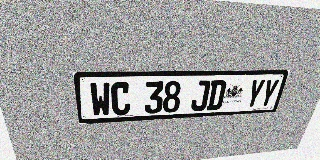3: (144, 81, 164, 114)
8: (162, 81, 182, 113)
C: (111, 82, 130, 116)
D: (206, 80, 227, 110)
J: (190, 80, 211, 111)
W: (89, 82, 111, 117)
Y: (244, 79, 266, 108), (258, 79, 280, 107)
